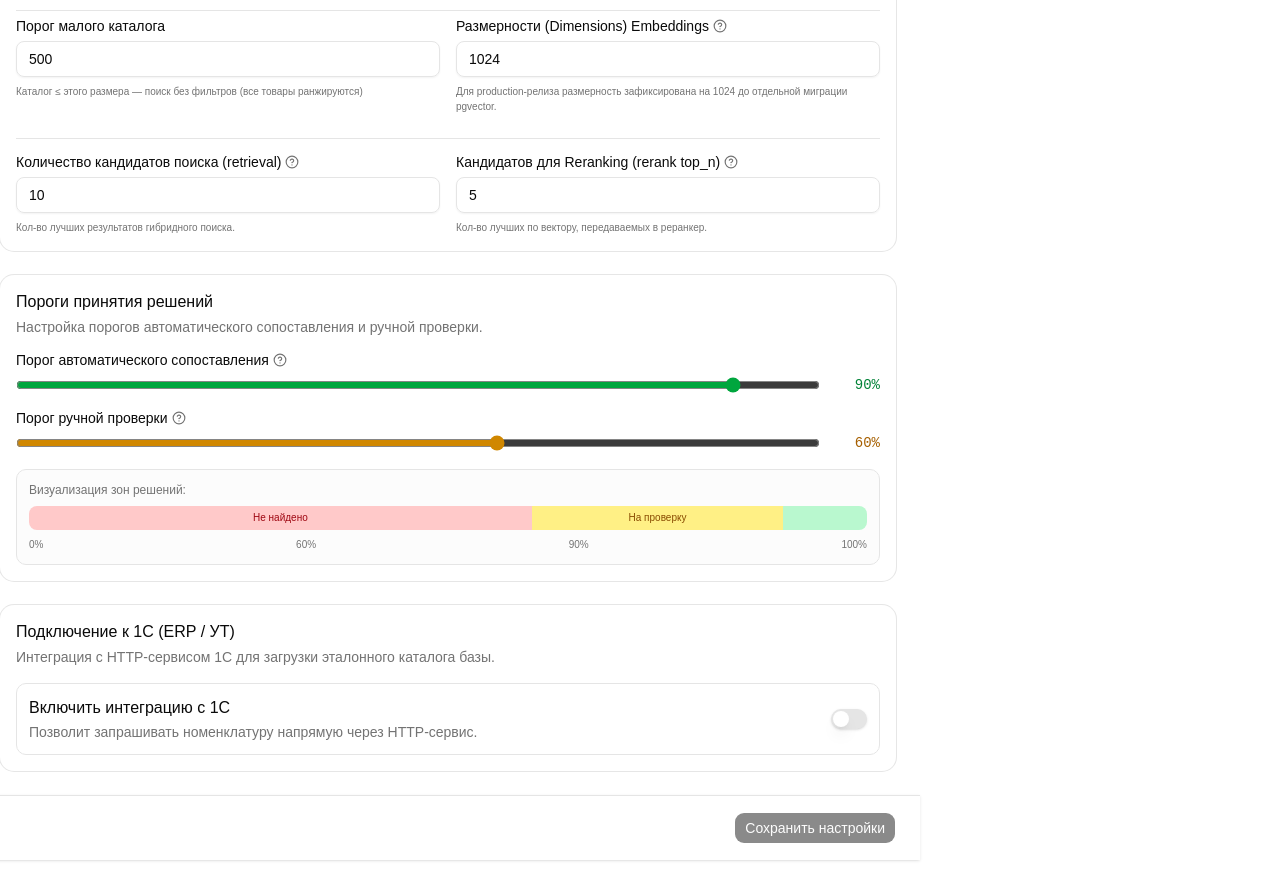
Test: catalog and settings pages › uses unknown 1C test error fallbacks
The image size is (1280, 892).
(page scrolled)
Click the switch named "Включить интеграцию с 1С" at [849, 719], box [831, 709, 867, 729]
(page scrolled)
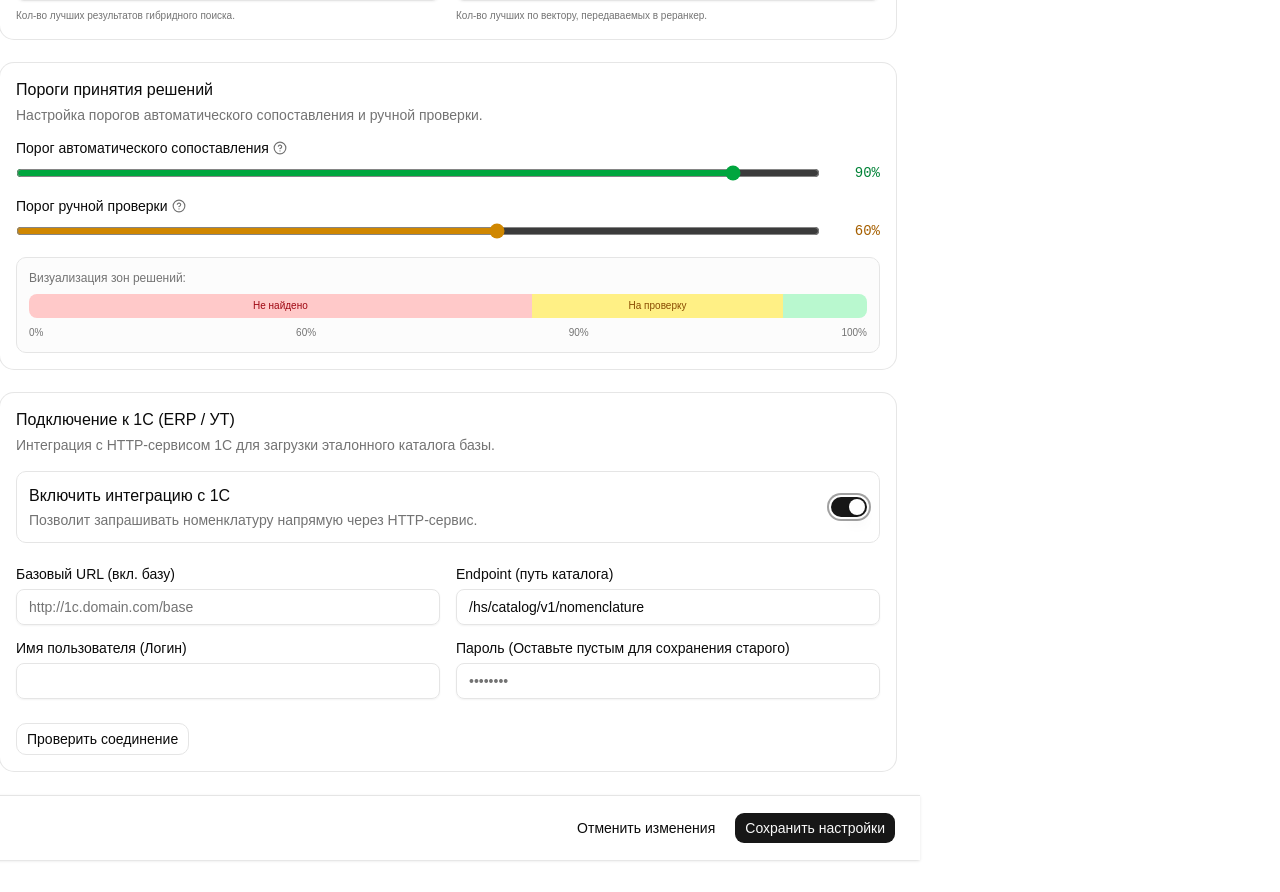
Click the button "Проверить соединение" at [103, 739], box [16, 723, 189, 755]
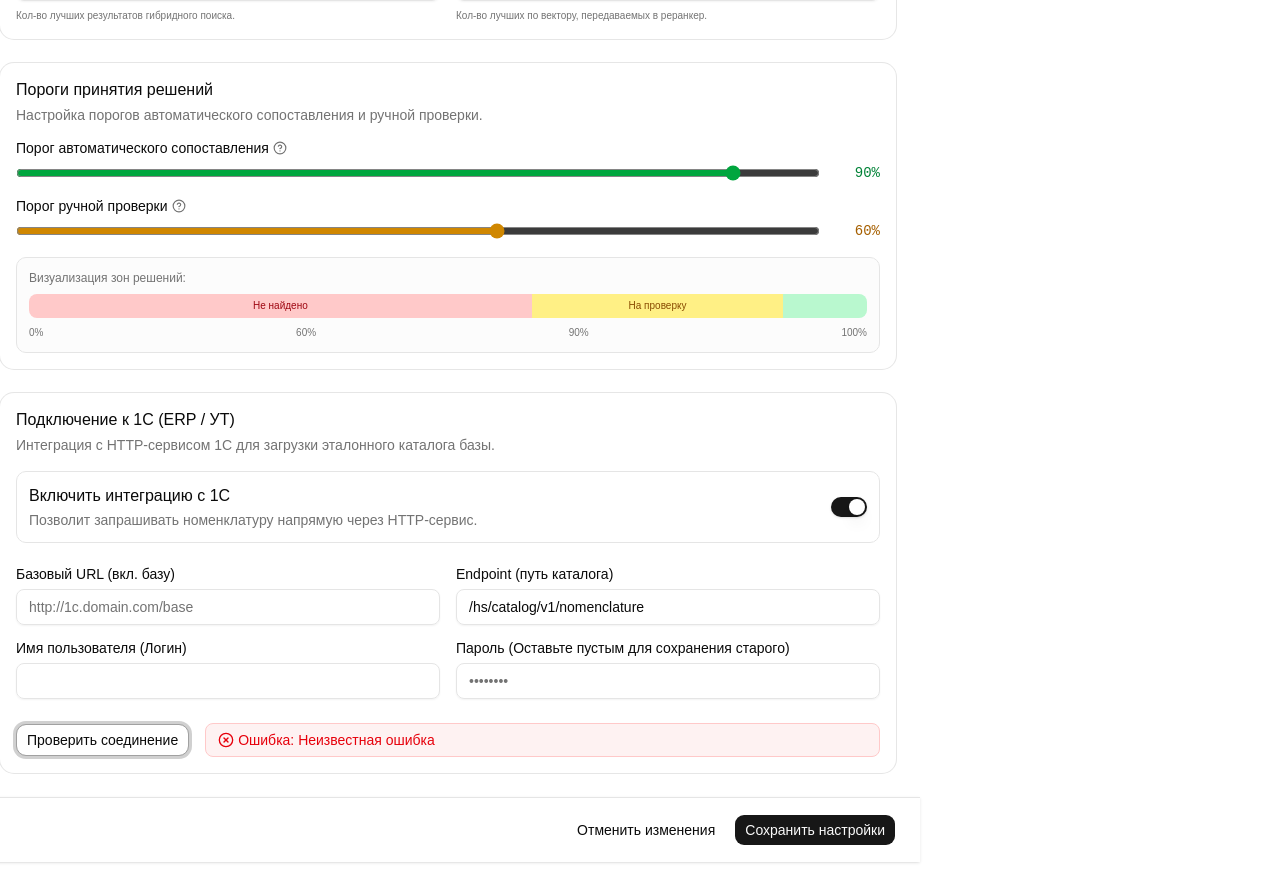
Now the text "Ошибка: Неизвестная ошибка" is shown, box [238, 730, 435, 750]
